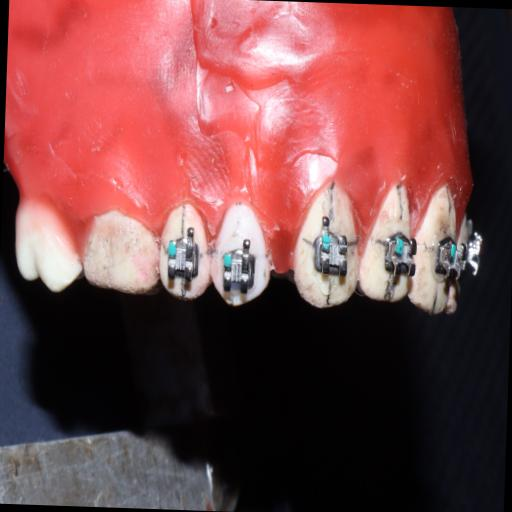correct_brace: (206, 192, 276, 318), (164, 223, 200, 293)
incorrect_brace: (220, 234, 260, 296)
